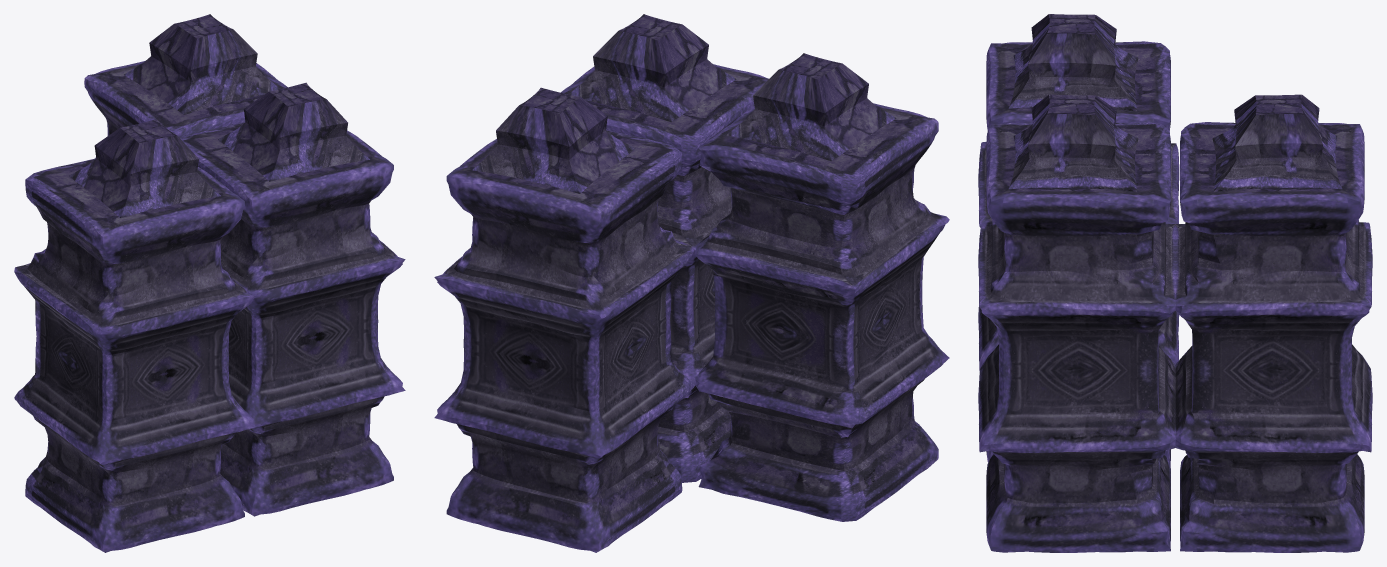
The model's file is Pillar1C.fbx.
The picture shows the model from 3 angles, left to right: view 1: azimuth 30°, elevation 25°; view 2: azimuth 150°, elevation 25°; view 3: azimuth 270°, elevation 25°; orthographic projection. The views are drawn at different scales.
Parts seen in each view (by area): view 1: Pillar1C; view 2: Pillar1C; view 3: Pillar1C.
Boxes of the visible parts, x1=… form: Pillar1C: x1=14, y1=14, x2=405, y2=552; Pillar1C: x1=434, y1=14, x2=949, y2=552; Pillar1C: x1=978, y1=14, x2=1372, y2=552.
Size of the model in its own units: 2.28 by 2.69 by 2.3.
Materials: 1 (1 with a texture image).
